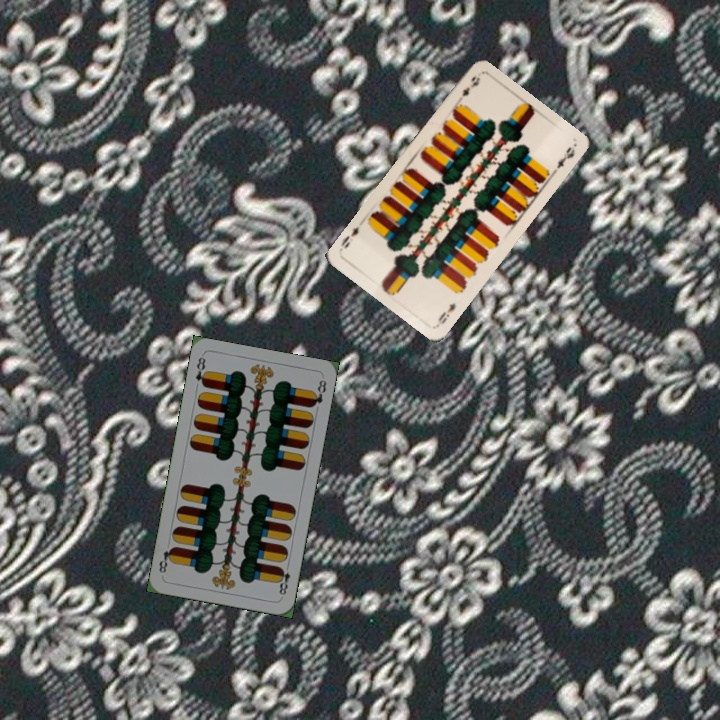E8: (274, 560, 293, 598), (191, 353, 210, 389)
E9: (453, 72, 482, 108), (433, 299, 458, 328)
